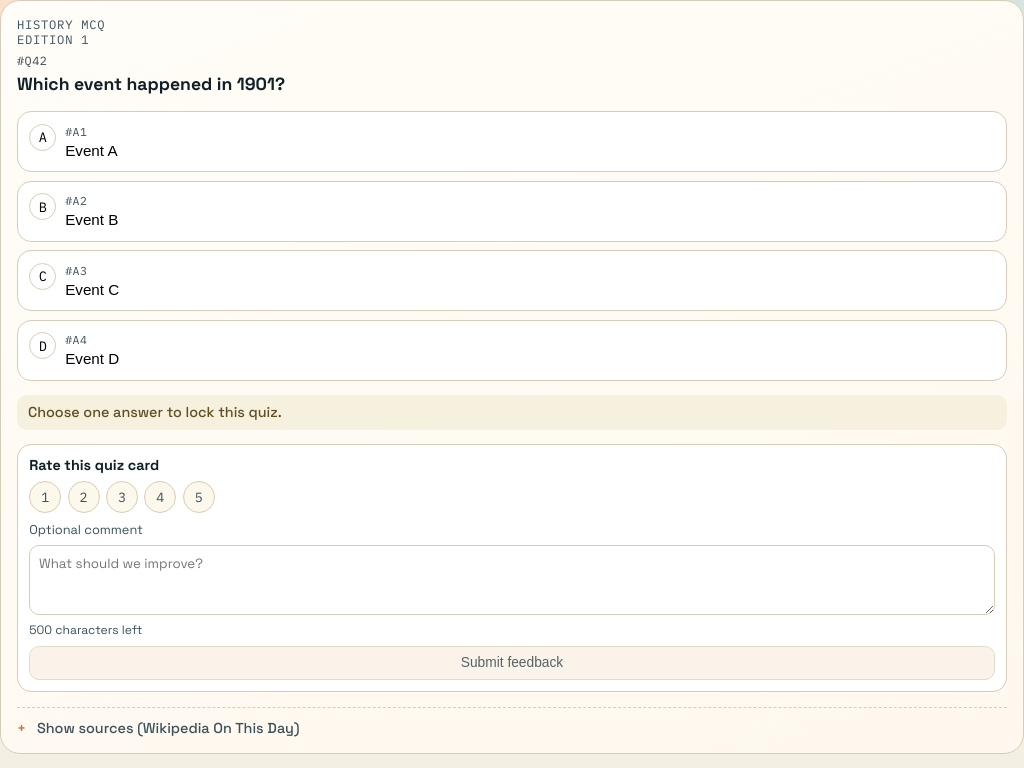
it: QuizCard feedback › submits feedback and shows updated state
Click the button named "5 stars" at (199, 497), box [183,481,215,513]
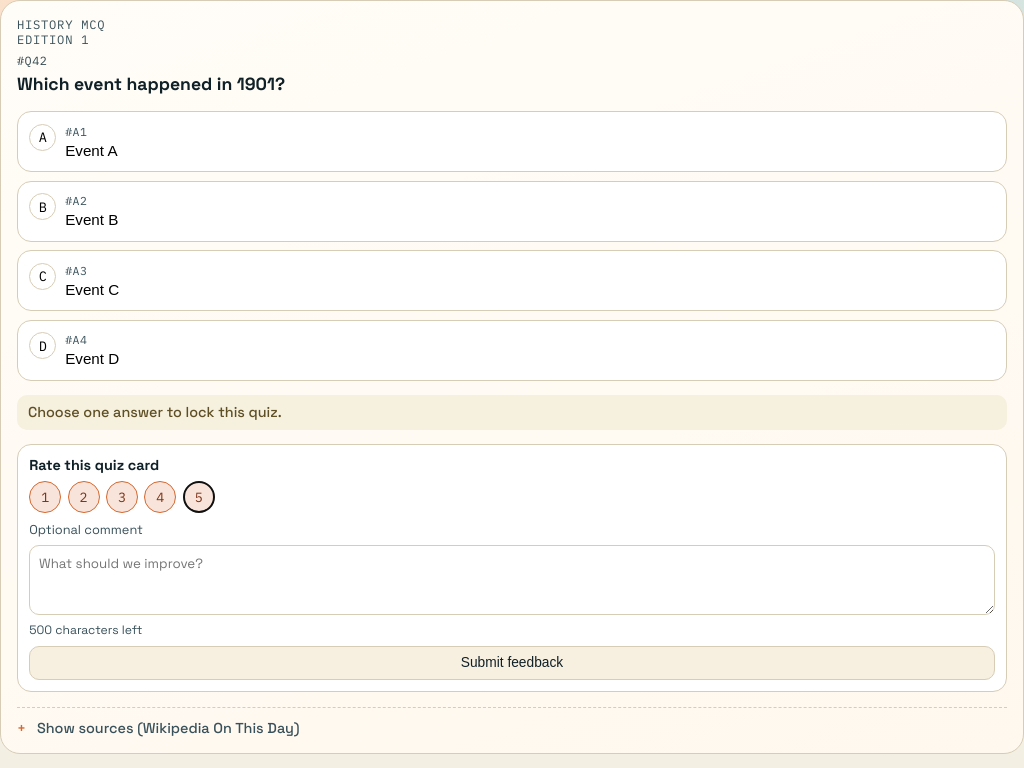
Click the button "Submit feedback" at (512, 663), box [29,646,995,680]
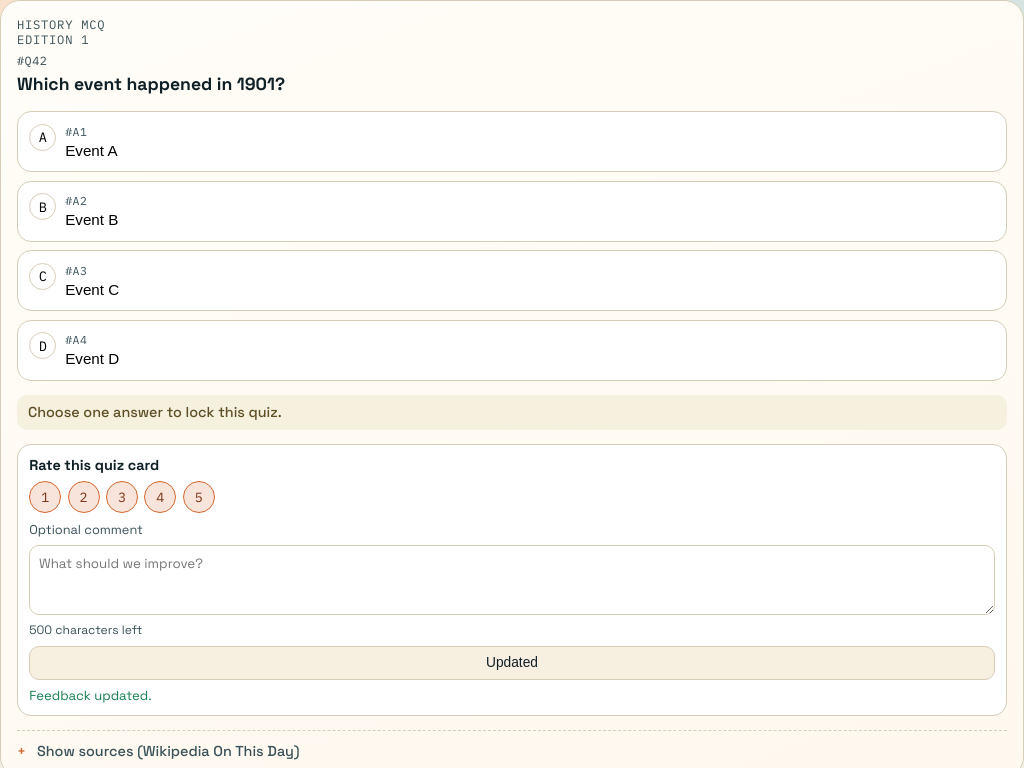
Now the text "Feedback updated." is shown, box [29,686,152,704]
Now the button "Updated" is shown, box [29,646,995,680]
